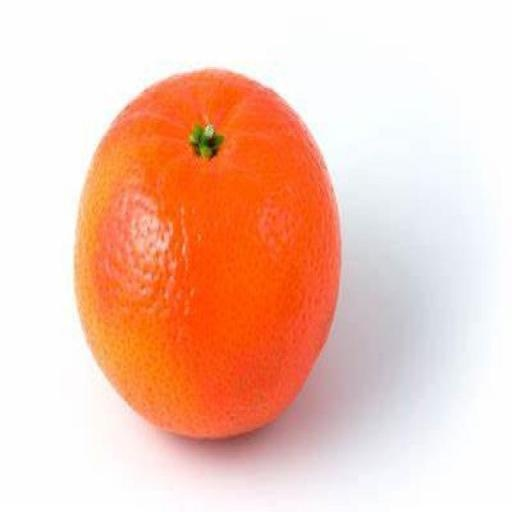fruit: (76, 70, 339, 437)
